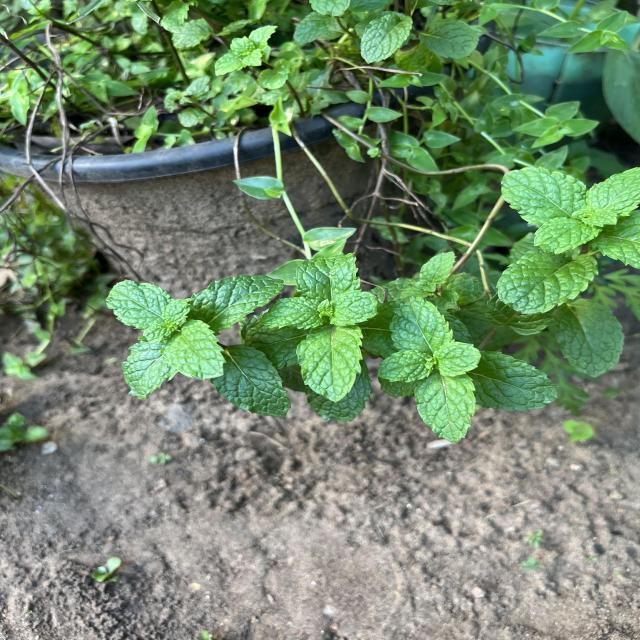Mentha spicata: (494, 248, 600, 316), (190, 273, 285, 335), (214, 344, 292, 419), (295, 325, 365, 403), (473, 350, 559, 412), (500, 165, 586, 225), (414, 374, 478, 446), (160, 318, 228, 382), (388, 296, 454, 350), (105, 279, 173, 331), (531, 216, 602, 255), (258, 296, 322, 332), (326, 288, 380, 326), (375, 351, 433, 384), (432, 342, 482, 378)
